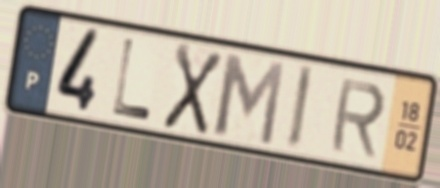4: (52, 24, 104, 118)
I: (283, 61, 317, 155)
L: (110, 35, 154, 123)
M: (211, 49, 288, 150)
R: (326, 76, 389, 161)
X: (159, 39, 226, 140)
